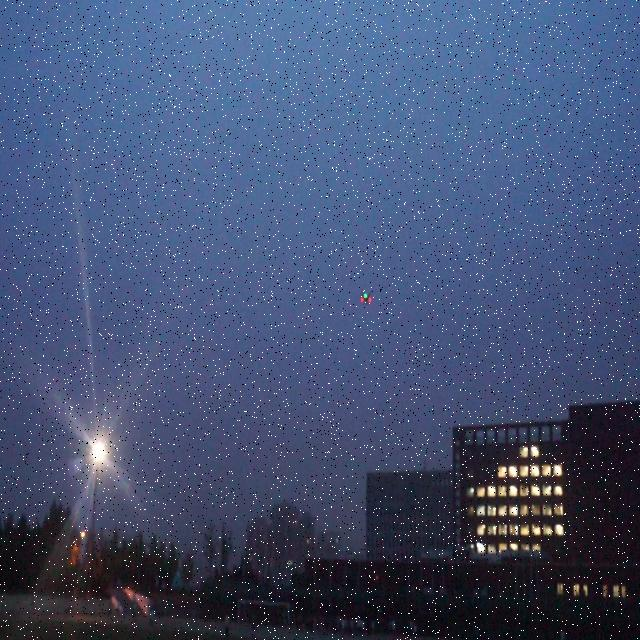UAV: (360, 292, 372, 305)
